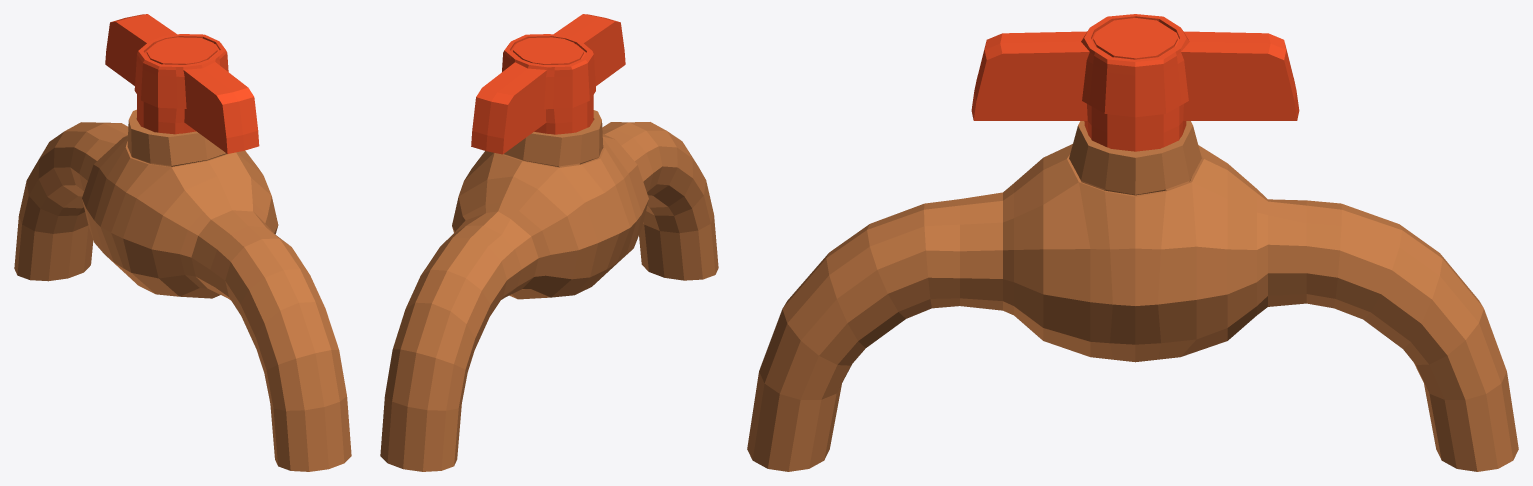
Rendered from Registro.fbx.
3 views of the same model, side by side, from view 1: azimuth 30°, elevation 25°; view 2: azimuth 150°, elevation 25°; view 3: azimuth 270°, elevation 25° (orthographic). The views are drawn at different scales.
Visible parts, largest first — view 1: Cylinder, Cylinder.001; view 2: Cylinder, Cylinder.001; view 3: Cylinder, Cylinder.001.
Boxes of the visible parts, bbox=[...] form: Cylinder: bbox=[14, 109, 351, 471]; Cylinder.001: bbox=[105, 14, 259, 153]; Cylinder: bbox=[380, 110, 718, 471]; Cylinder.001: bbox=[471, 14, 625, 154]; Cylinder: bbox=[747, 121, 1518, 471]; Cylinder.001: bbox=[971, 14, 1299, 151].
Bounding box in the file's own units: 113 × 211 × 359.
